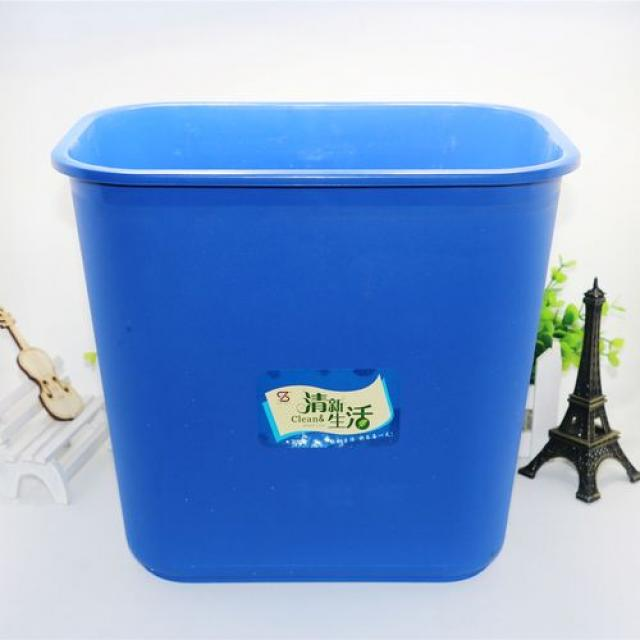Dustbin: (47, 93, 587, 592)
